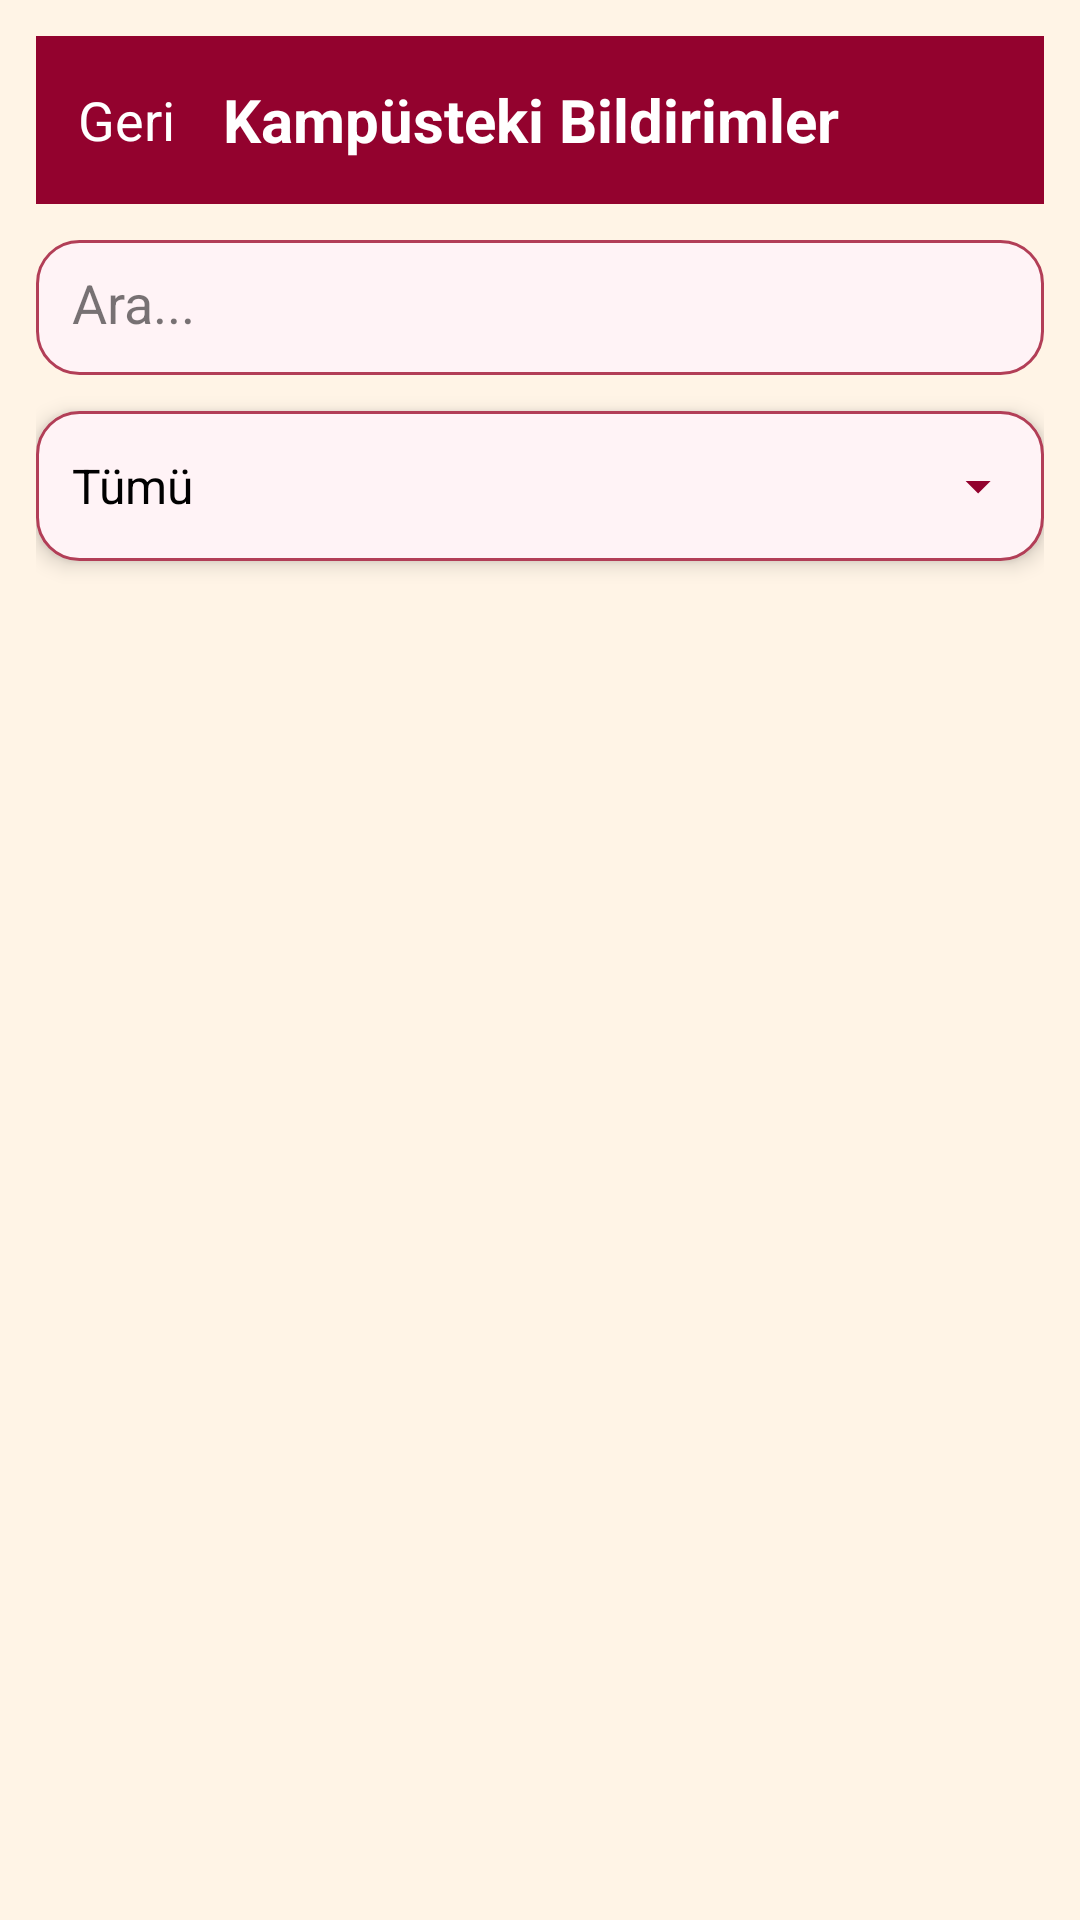

Screen size 1080x1920. Icon name, then its box in pixels as (x1, y1, x2, y2):
arrow down: (966, 481, 991, 494)
